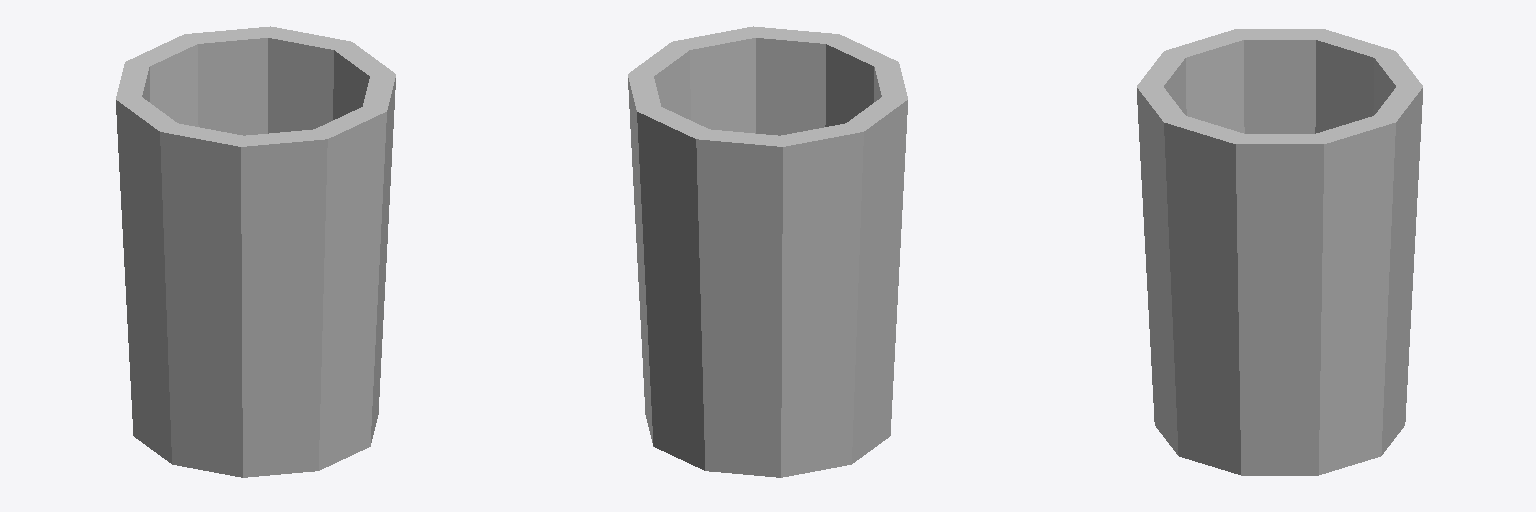
File: tablecupwood01.obj
3 renders of one model, left to right at view 1: azimuth 30°, elevation 25°; view 2: azimuth 150°, elevation 25°; view 3: azimuth 270°, elevation 25°, orthographic.
Visible parts, largest first — view 1: Cylinder.001_Cylinder; view 2: Cylinder.001_Cylinder; view 3: Cylinder.001_Cylinder.
Boxes of the visible parts, x1,y1,x2,y2 form: Cylinder.001_Cylinder: [116, 26, 395, 477]; Cylinder.001_Cylinder: [628, 26, 907, 477]; Cylinder.001_Cylinder: [1137, 29, 1422, 475].
Bounding box in the file's own units: 0.0858 × 0.1174 × 0.0902.